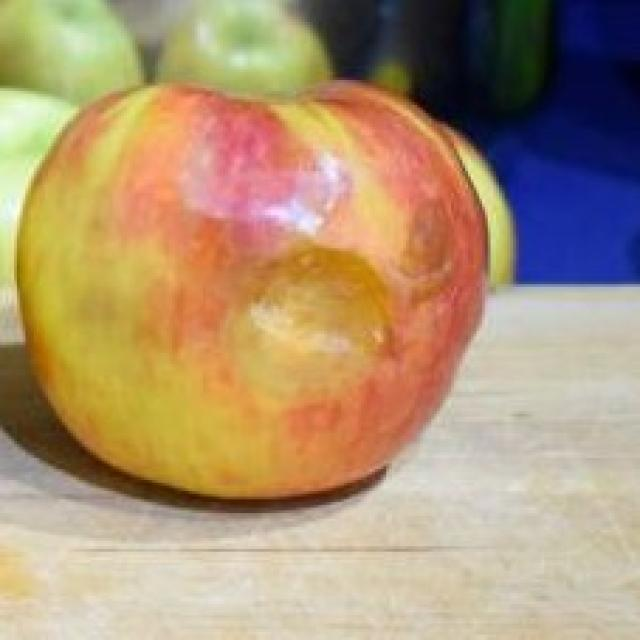overripe: (11, 64, 496, 506)
